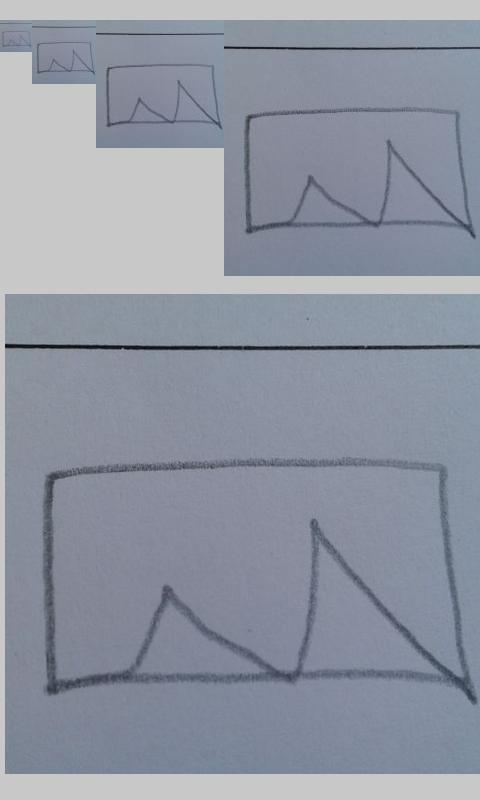image_view: (39, 456, 470, 696), (243, 106, 473, 236), (104, 62, 221, 127), (36, 41, 94, 74), (1, 30, 32, 47)
